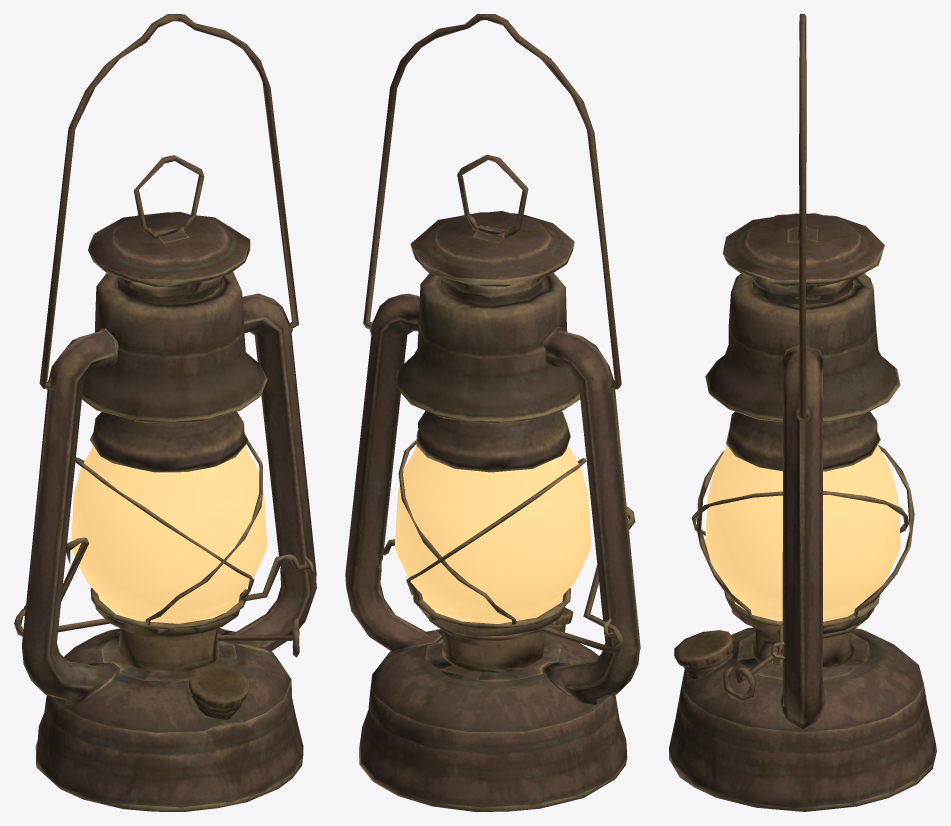
File: farol_leo.glb
3 views of the same model, side by side, from view 1: azimuth 30°, elevation 25°; view 2: azimuth 150°, elevation 25°; view 3: azimuth 270°, elevation 25° (orthographic).
Parts seen in each view (by area): view 1: Lantern_01, Lantern_01_glass; view 2: Lantern_01, Lantern_01_glass; view 3: Lantern_01, Lantern_01_glass.
Boxes of the visible parts, box(x1,y1,x2,y2) form: Lantern_01: box(14, 14, 316, 811); Lantern_01_glass: box(71, 446, 267, 623); Lantern_01: box(345, 14, 640, 811); Lantern_01_glass: box(394, 445, 590, 623); Lantern_01: box(669, 14, 936, 811); Lantern_01_glass: box(705, 445, 900, 621).
Size of the model in its own units: 0.1322 by 0.3178 by 0.1045.
3 materials, 2 textured.
